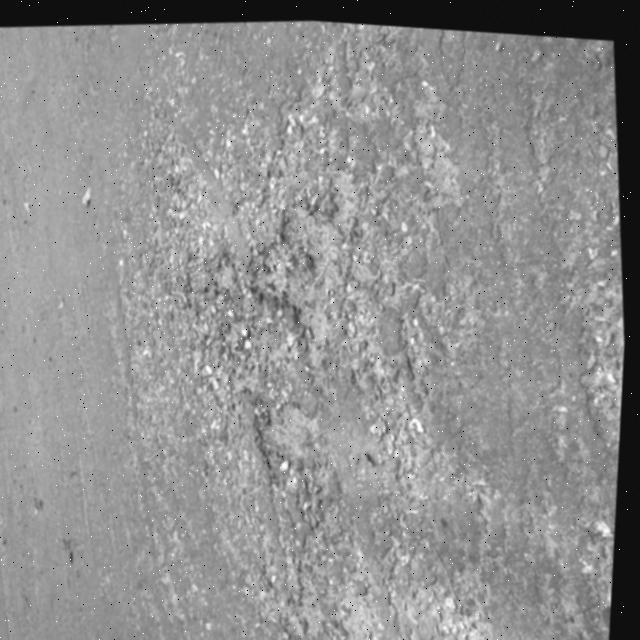pothole: (230, 186, 356, 344), (250, 387, 328, 472)
